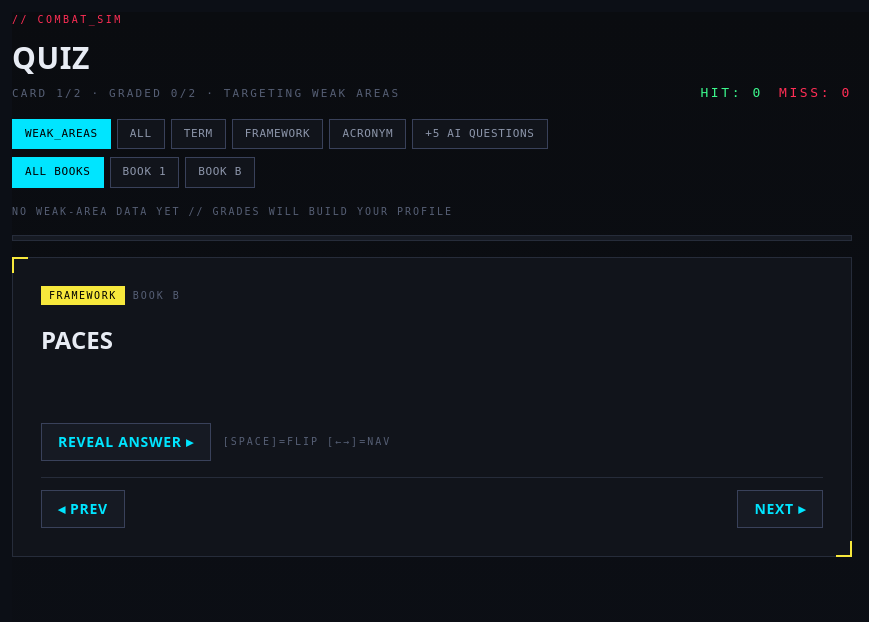
it: completing the deck closes the round and resets the counter
Expected: the text "PACES" is shown, [41,322,113,356]
Click the button "REVEAL ANSWER ▸": (126, 442) [41,422,211,460]
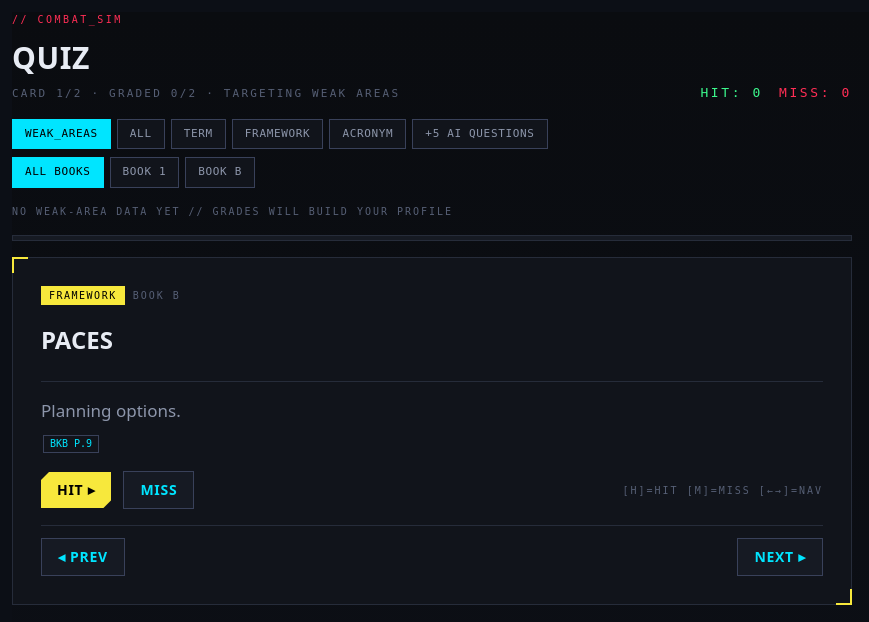
Click the button "HIT ▸": (76, 490) [41,472,111,508]
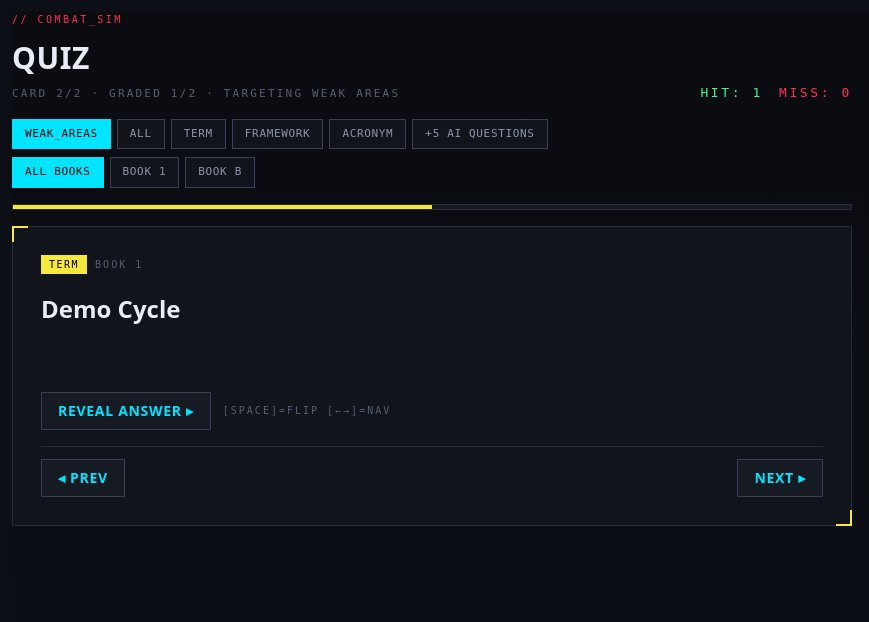
Click the button "REVEAL ANSWER ▸": (126, 410) [41,392,211,430]
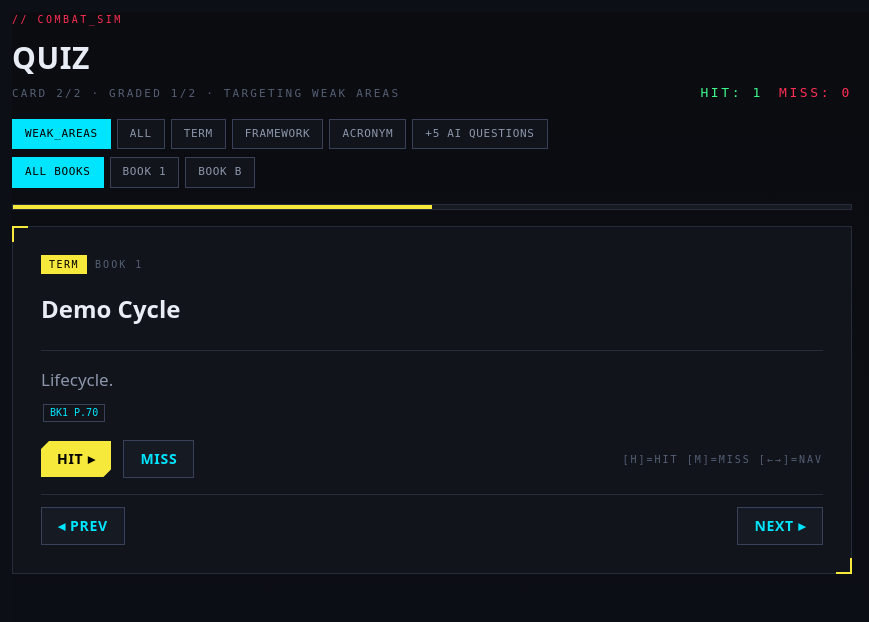
Click the button "MISS": (159, 459) [123,440,194,478]
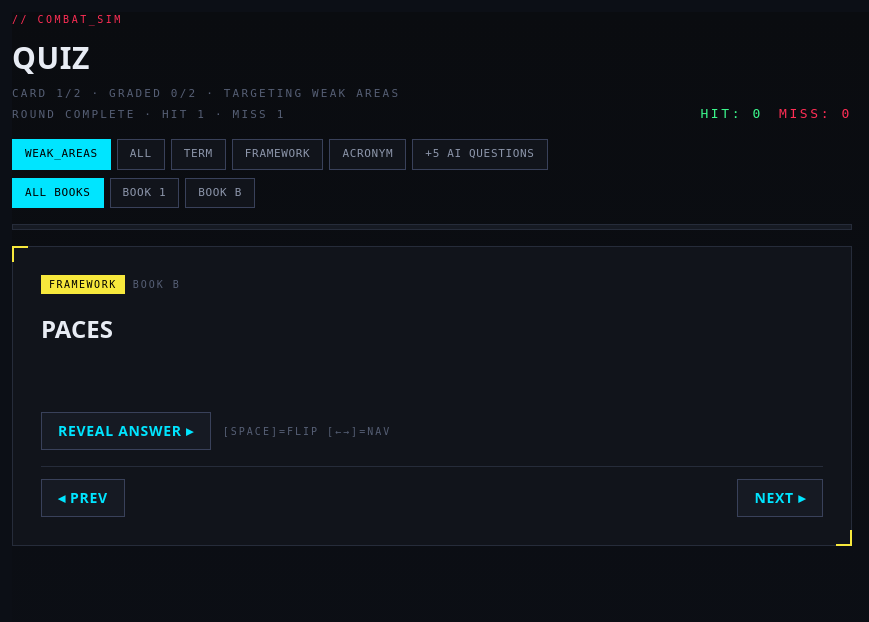
Expected: the text "HIT: 0" is shown, [700,104,763,123]
Expected: the text "ROUND COMPLETE · HIT 1 · MISS 1" is shown, [12,108,286,120]
